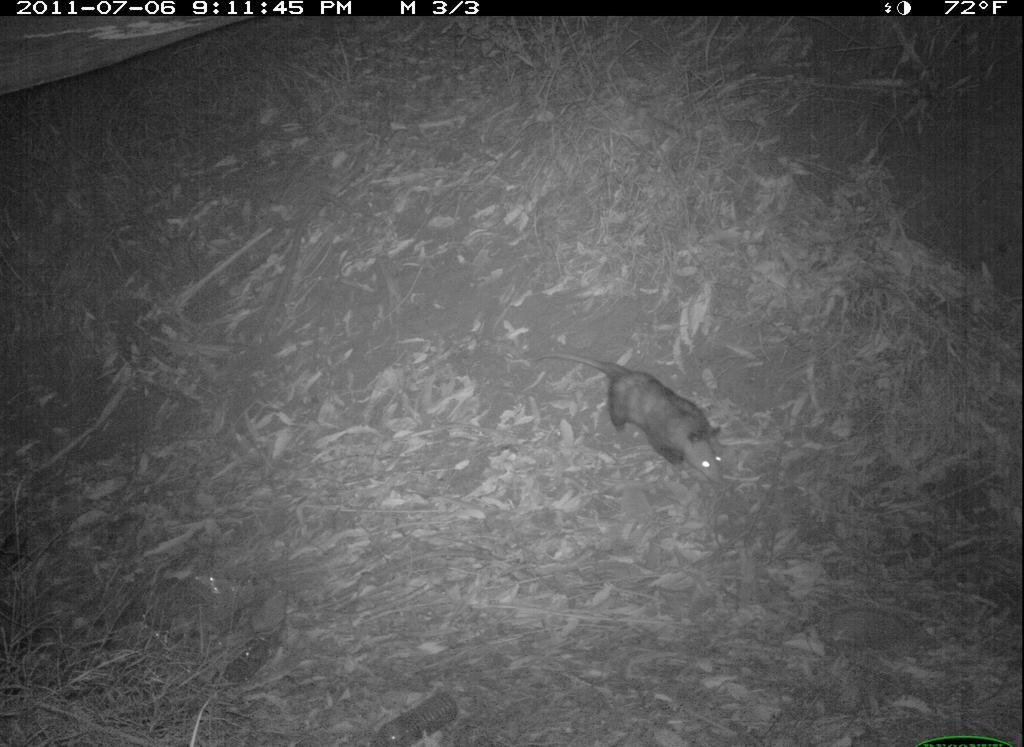opossum: (553, 341, 739, 495)
